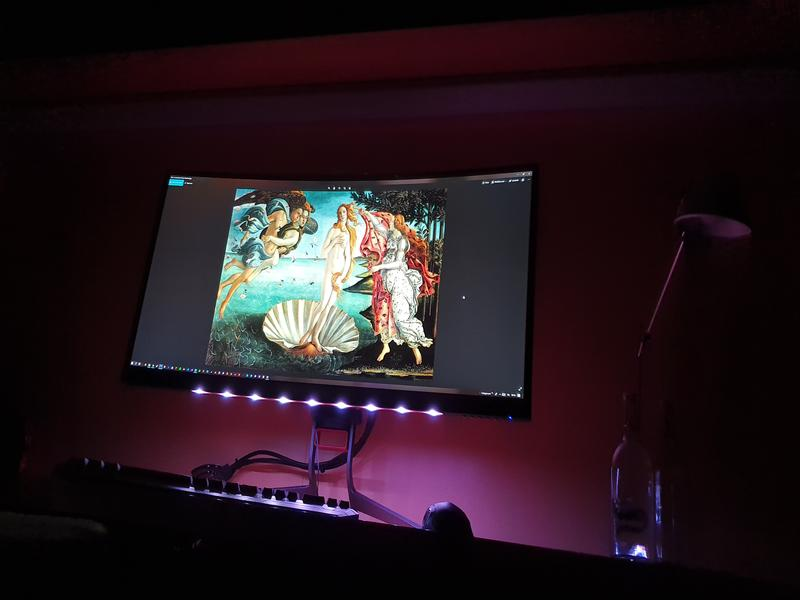Venere: (204, 186, 447, 383)
